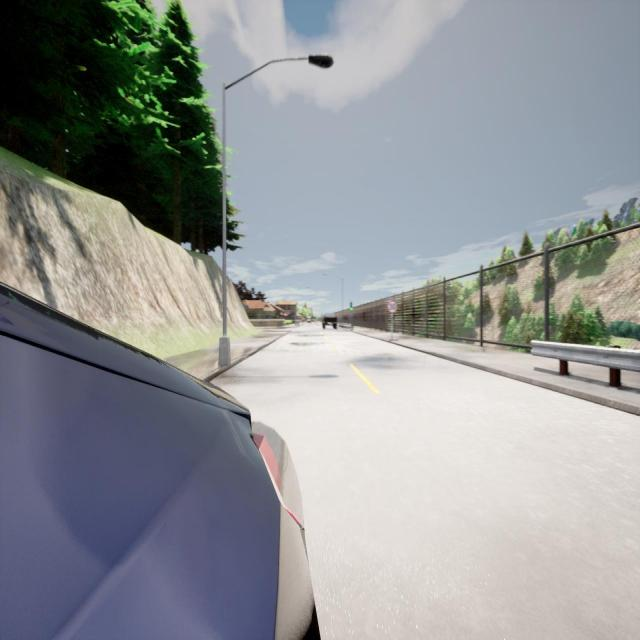Traffic_Signs: (387, 300, 398, 314)
Vehicle: (0, 283, 316, 637), (322, 312, 337, 330), (306, 316, 312, 323)
traffic_light: (350, 302, 352, 312)
